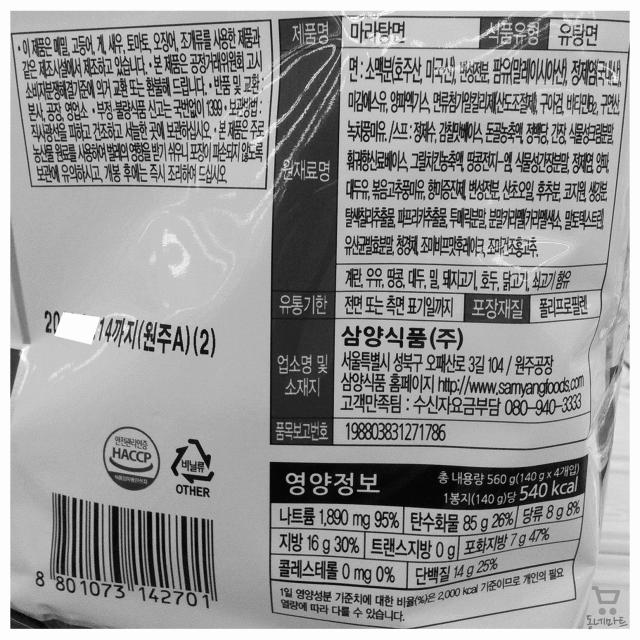Nutrition Label: (269, 456, 593, 637)
